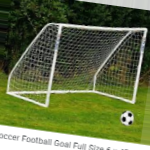goals: (5, 20, 149, 113)
